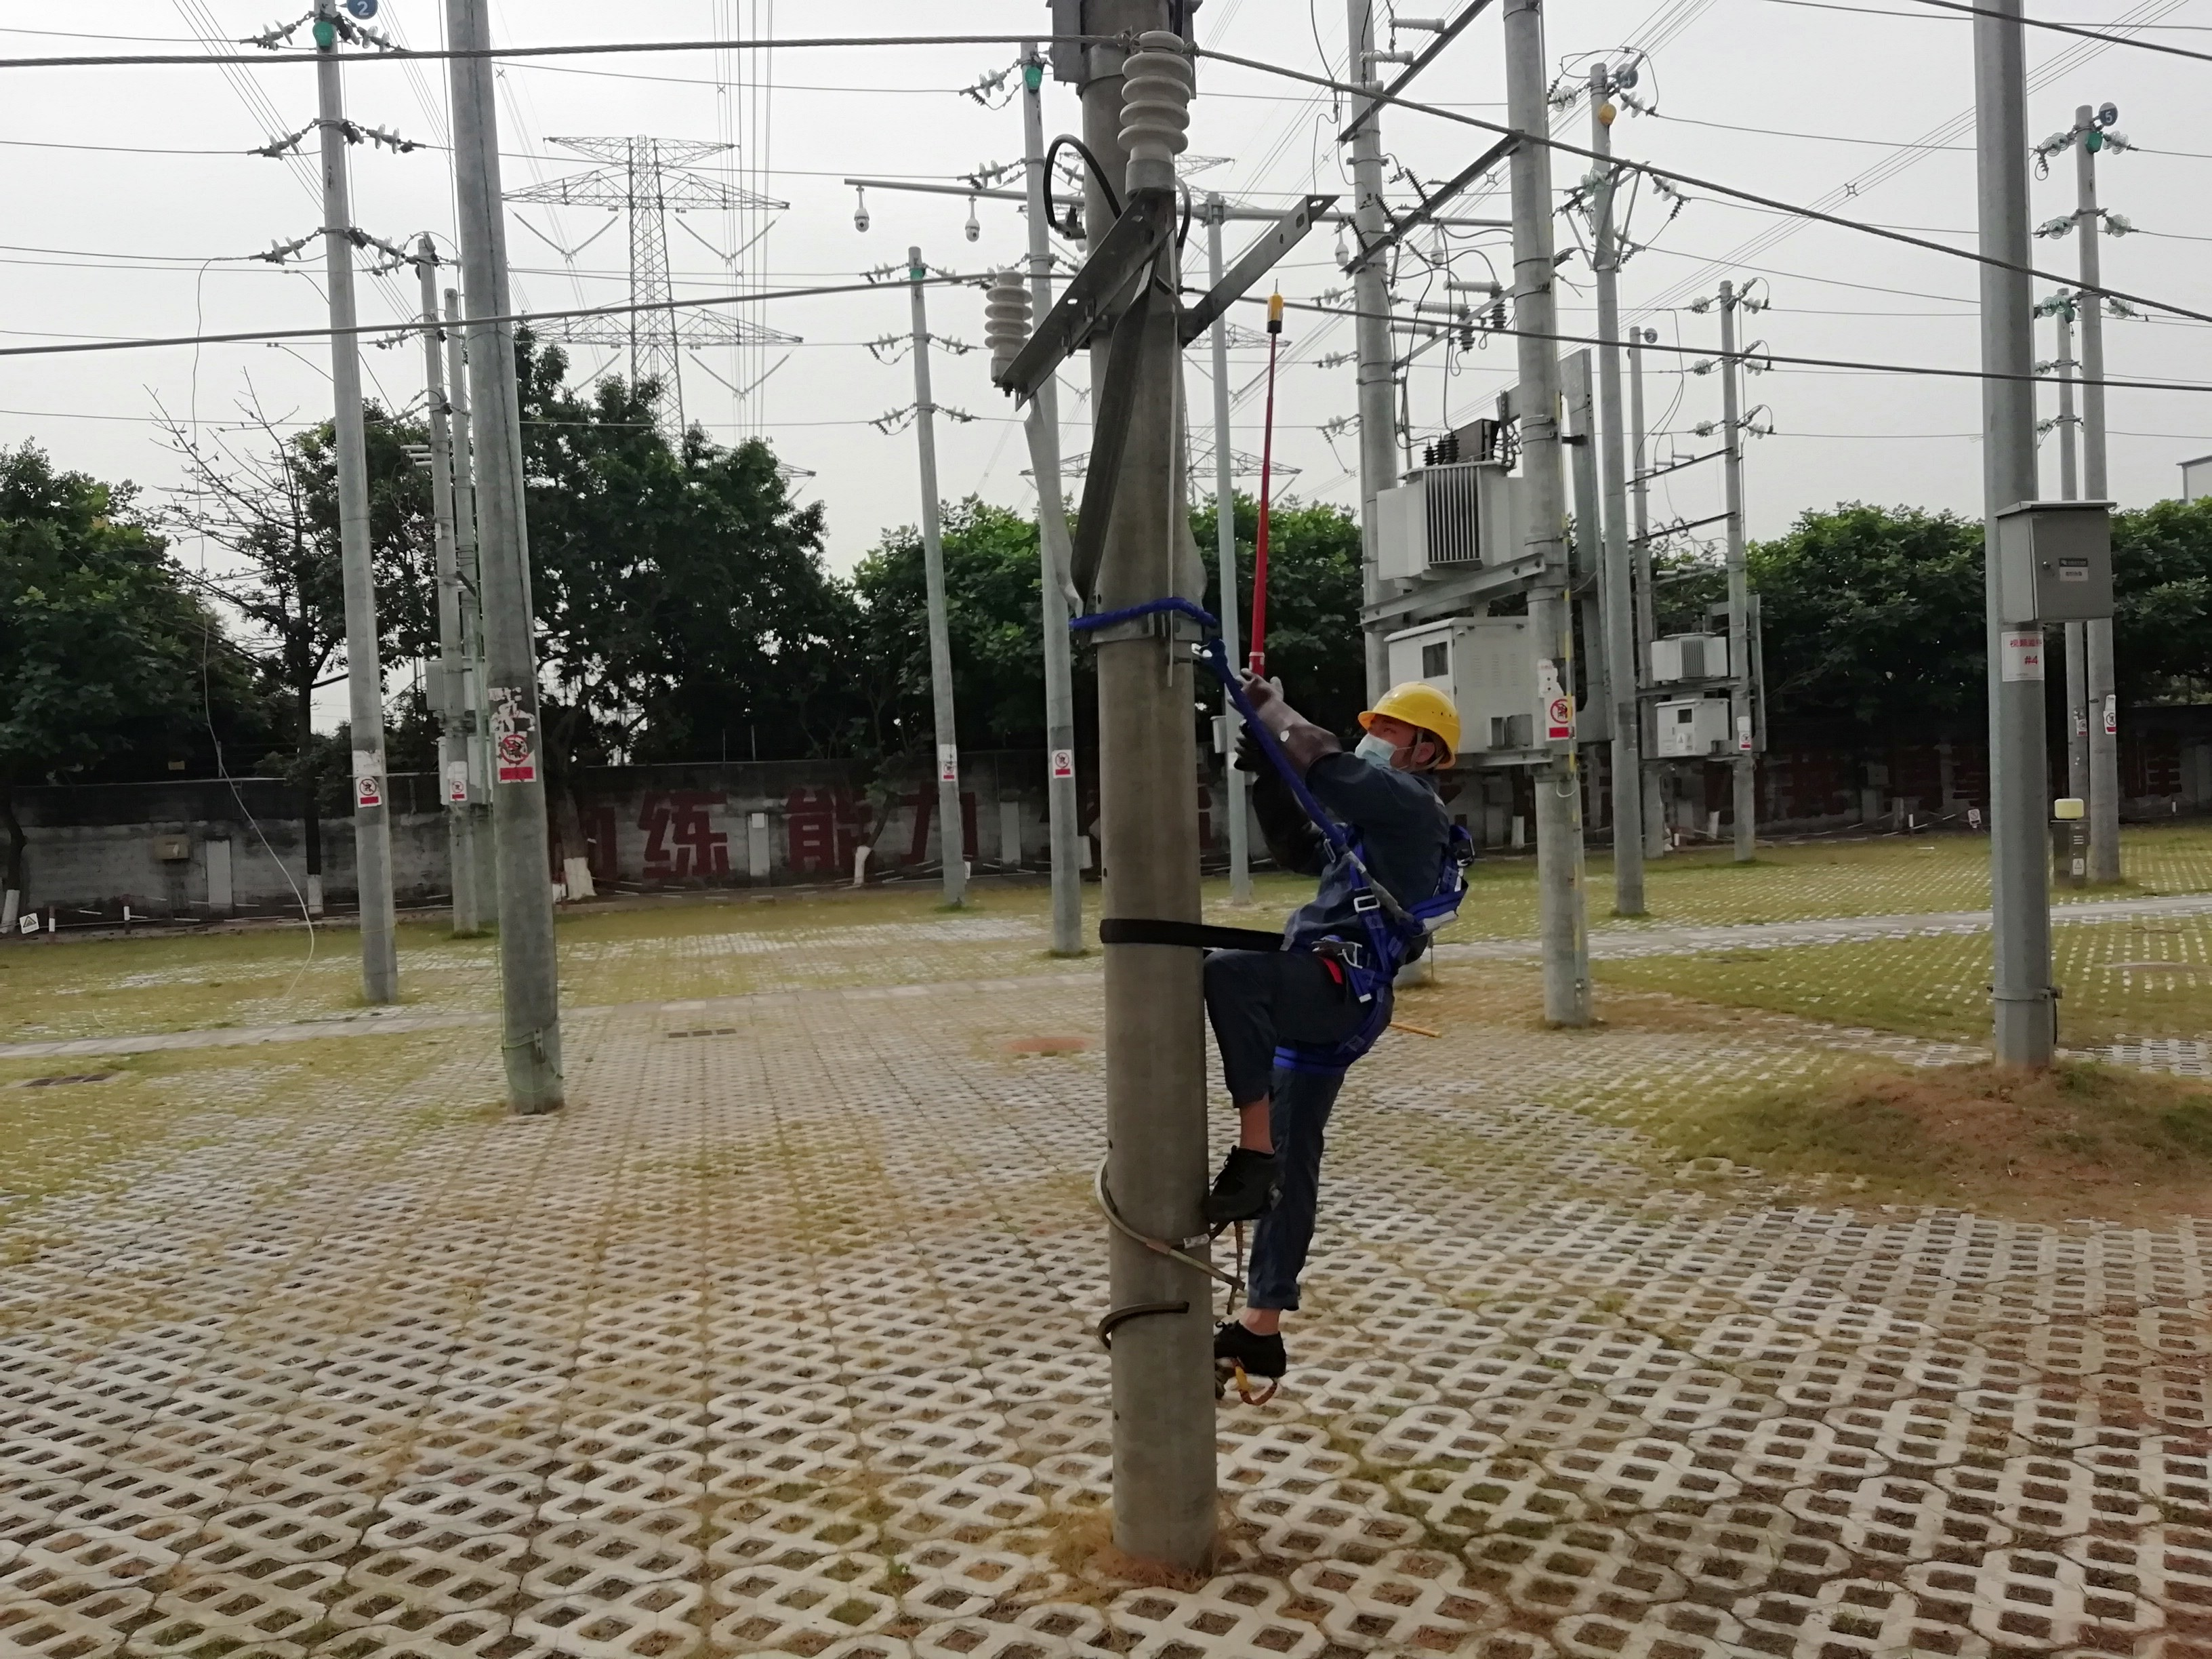downsuit: (1209, 951, 1397, 1312)
upsuit: (1291, 756, 1460, 943)
wrongbottom: (1224, 1056, 1280, 1162)
